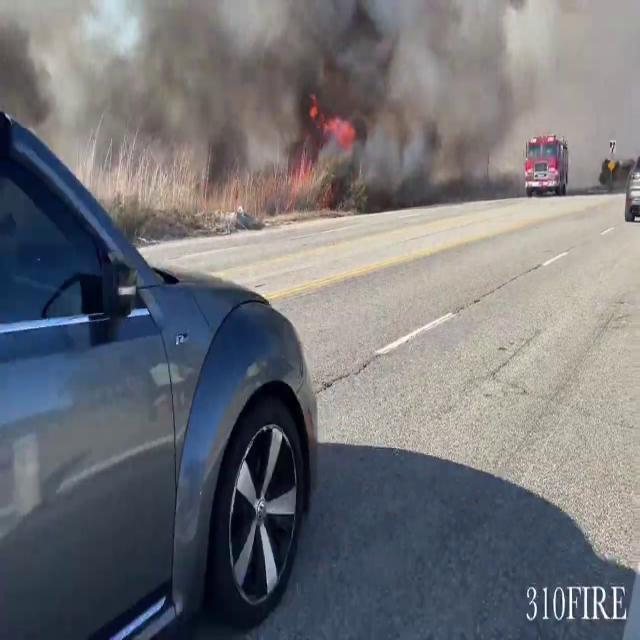Smoke: (1, 0, 636, 200)
